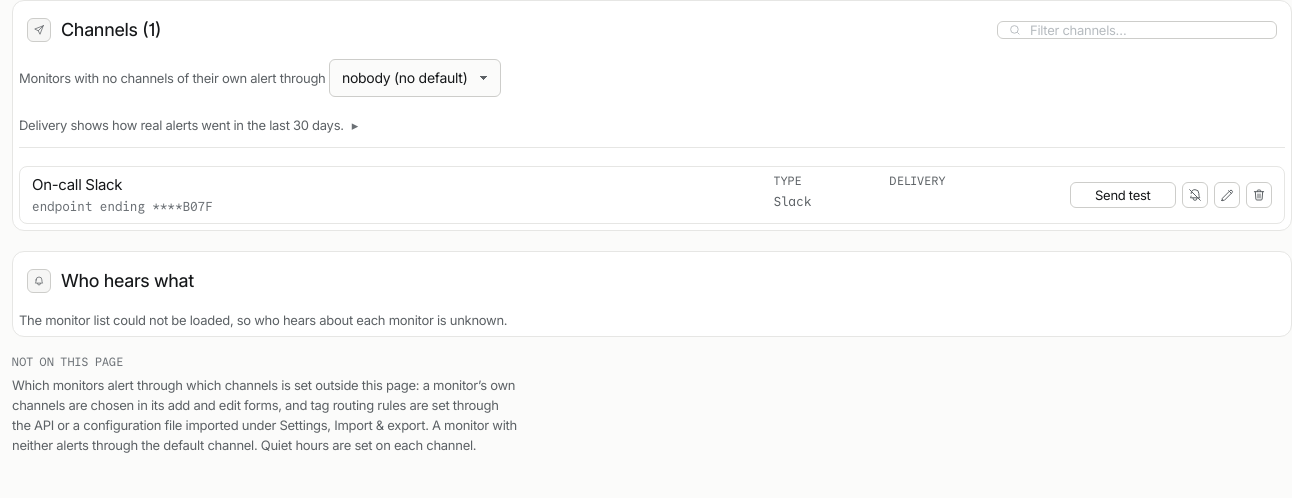
Test case: LiveNotifications › shows the real failure of a test, in the server's words
The image size is (1292, 498).
Click the button "Send test" at (1123, 195), box [1070,182,1176,208]
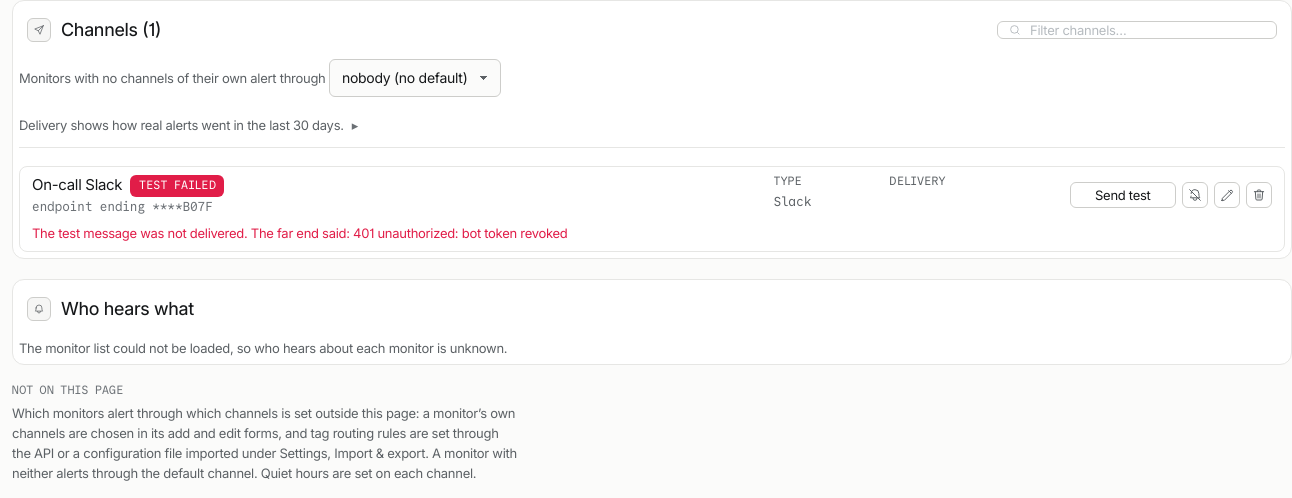
Check: the text "401 unauthorized: bot token revoked" is shown, box [32,225,568,241]
Check: the text "Test failed" is shown, box [130,175,224,197]
